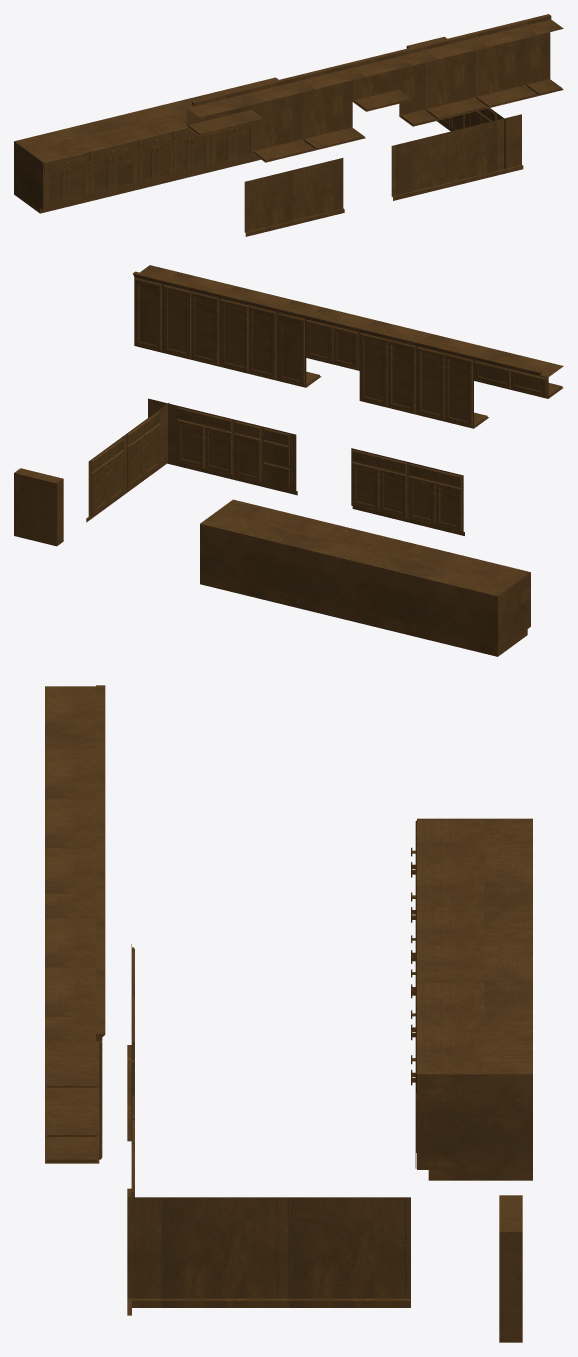
File: cabinets_truffle.glb
3 renders of one model, top to bottom at view 1: azimuth 30°, elevation 25°; view 2: azimuth 150°, elevation 25°; view 3: azimuth 270°, elevation 25°, orthographic. The views are drawn at different scales.
Visible parts, largest first — view 1: Kitchen Cabinets Truffle; view 2: Kitchen Cabinets Truffle; view 3: Kitchen Cabinets Truffle.
Part boxes in pixels (x1,y1,x2,y2): Kitchen Cabinets Truffle: (14,14,563,236); Kitchen Cabinets Truffle: (14,265,563,656); Kitchen Cabinets Truffle: (45,685,532,1342).
Bounding box in the file's own units: 8.5 × 2.93 × 4.2.
1 material, 1 textured.
